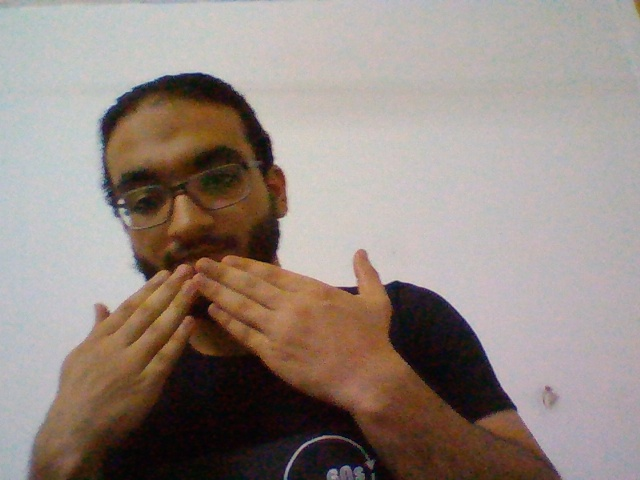Thanks: (35, 247, 408, 450)
